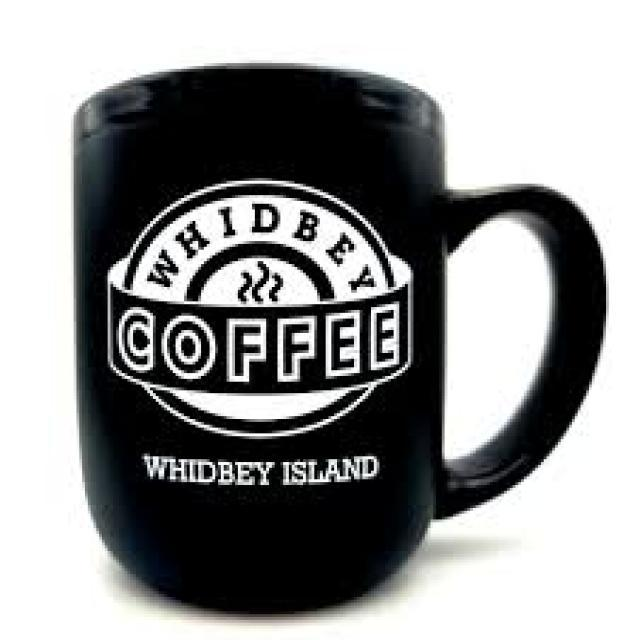taza: (69, 58, 608, 618)
